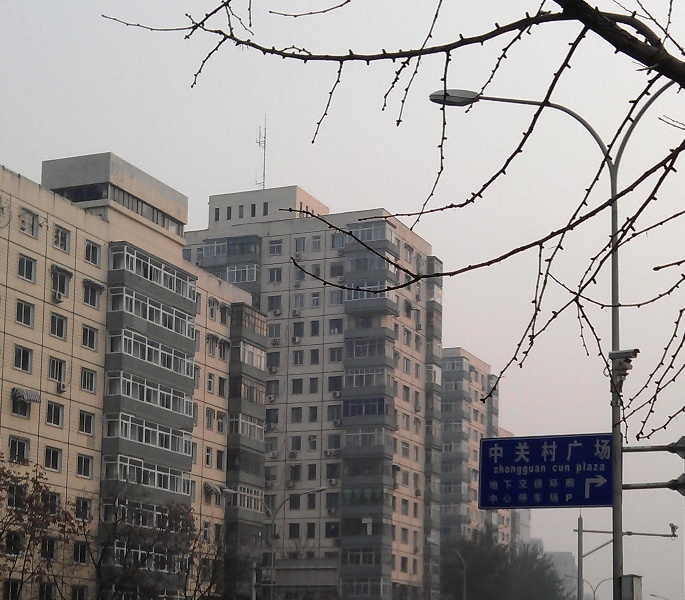text: (497, 440, 512, 464), (513, 440, 528, 464), (529, 440, 544, 464), (545, 440, 560, 464), (561, 440, 576, 464), (577, 440, 592, 464), (593, 440, 608, 464), (497, 492, 512, 505), (513, 492, 528, 505), (529, 492, 544, 505), (545, 492, 560, 505), (497, 464, 512, 477), (513, 464, 528, 477), (529, 464, 544, 477), (497, 478, 512, 490), (513, 478, 528, 490), (529, 478, 544, 490), (545, 478, 560, 490), (561, 478, 576, 490), (561, 492, 574, 505), (489, 440, 496, 464), (577, 463, 592, 474), (593, 463, 605, 474), (487, 492, 496, 505), (488, 478, 496, 490), (609, 440, 612, 464), (561, 465, 571, 472), (552, 465, 560, 472), (494, 464, 496, 477), (545, 464, 547, 477)
